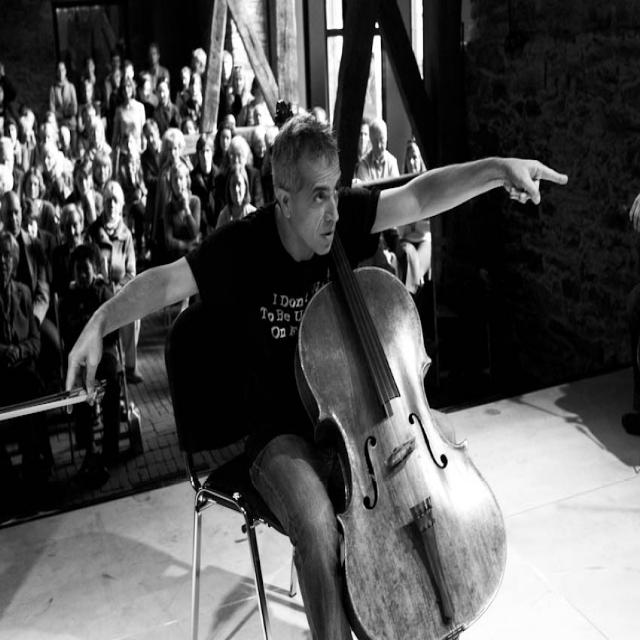cello: (272, 95, 510, 639)
